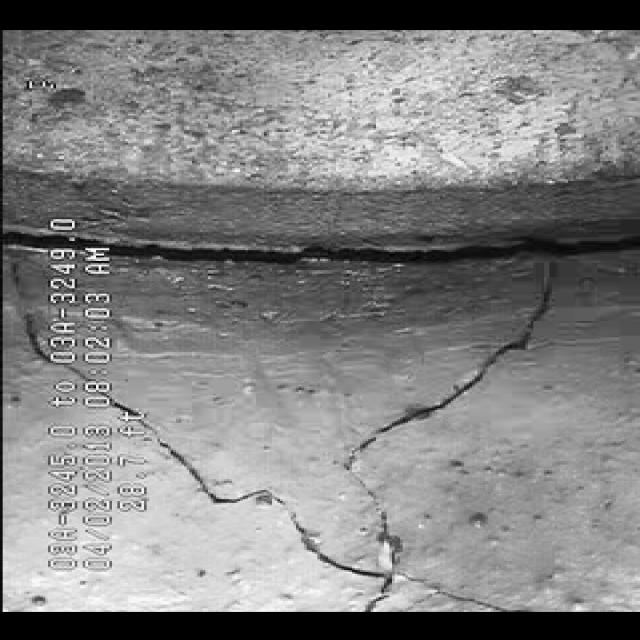Crack: (193, 337, 507, 595)
